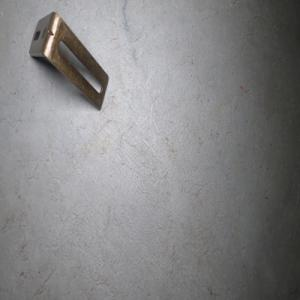MetalPart: (28, 10, 109, 111)
